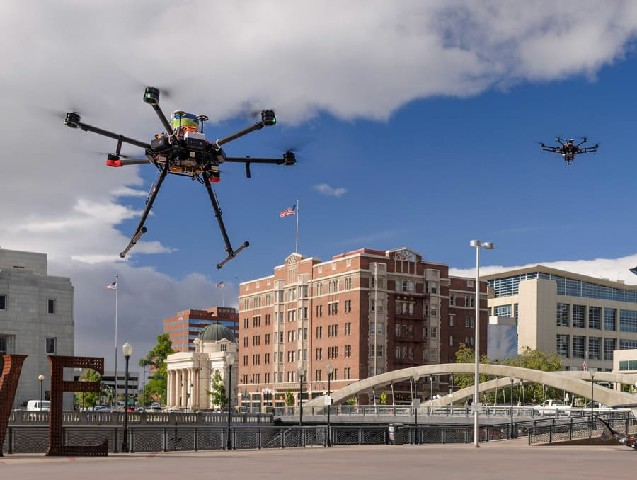maybay_khongnguoilai: (45, 68, 300, 254), (536, 131, 600, 170)
